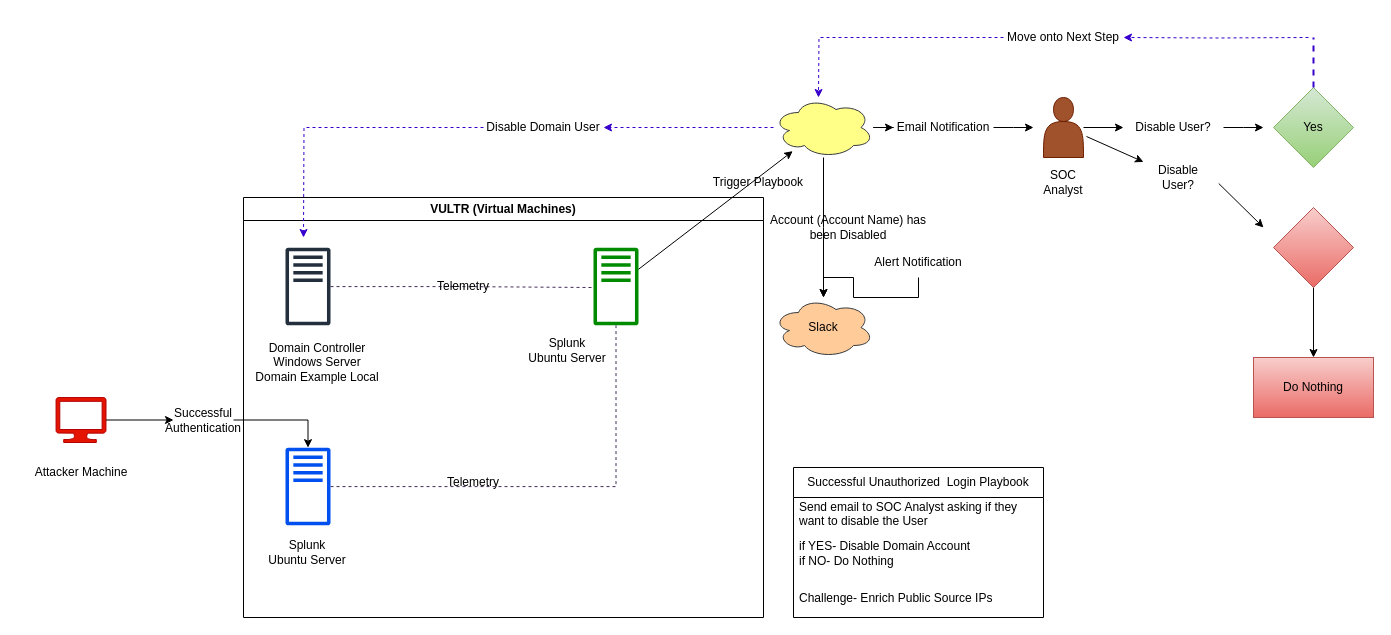
The diagram is 1391 pixels wide and 635 high, and some of its shapes have lost their labels. The shapes that lost their labels are listed below. From the top down, each one's centre as x and y in pixels, then its label:
point 823,127: Shuffle
point 1313,247: No
